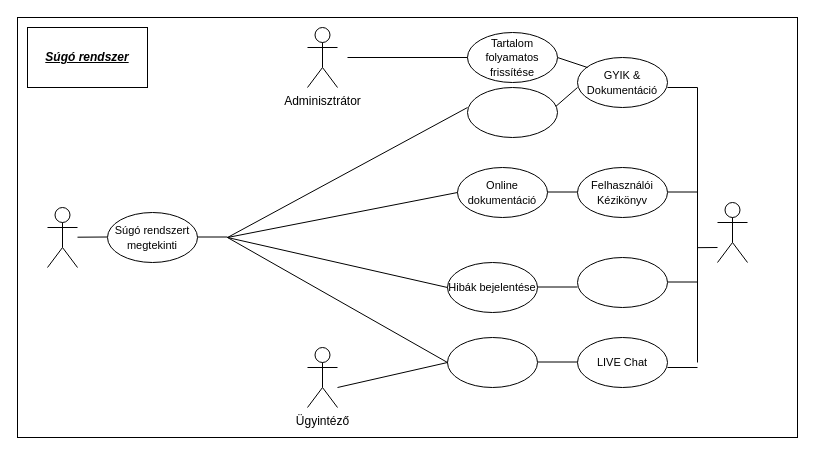
The diagram is 815 pixels wide and 455 high, and some of its shapes have lost their labels. The centre of each missing label's shape, as x and y in pixels:
Felhasználó: point (62, 237)
Hibabejelentés: point (622, 282)
Kereshető tudázbázis: point (512, 112)
Súgó: point (732, 232)
Valós Idejű kommunikáció: point (492, 362)
